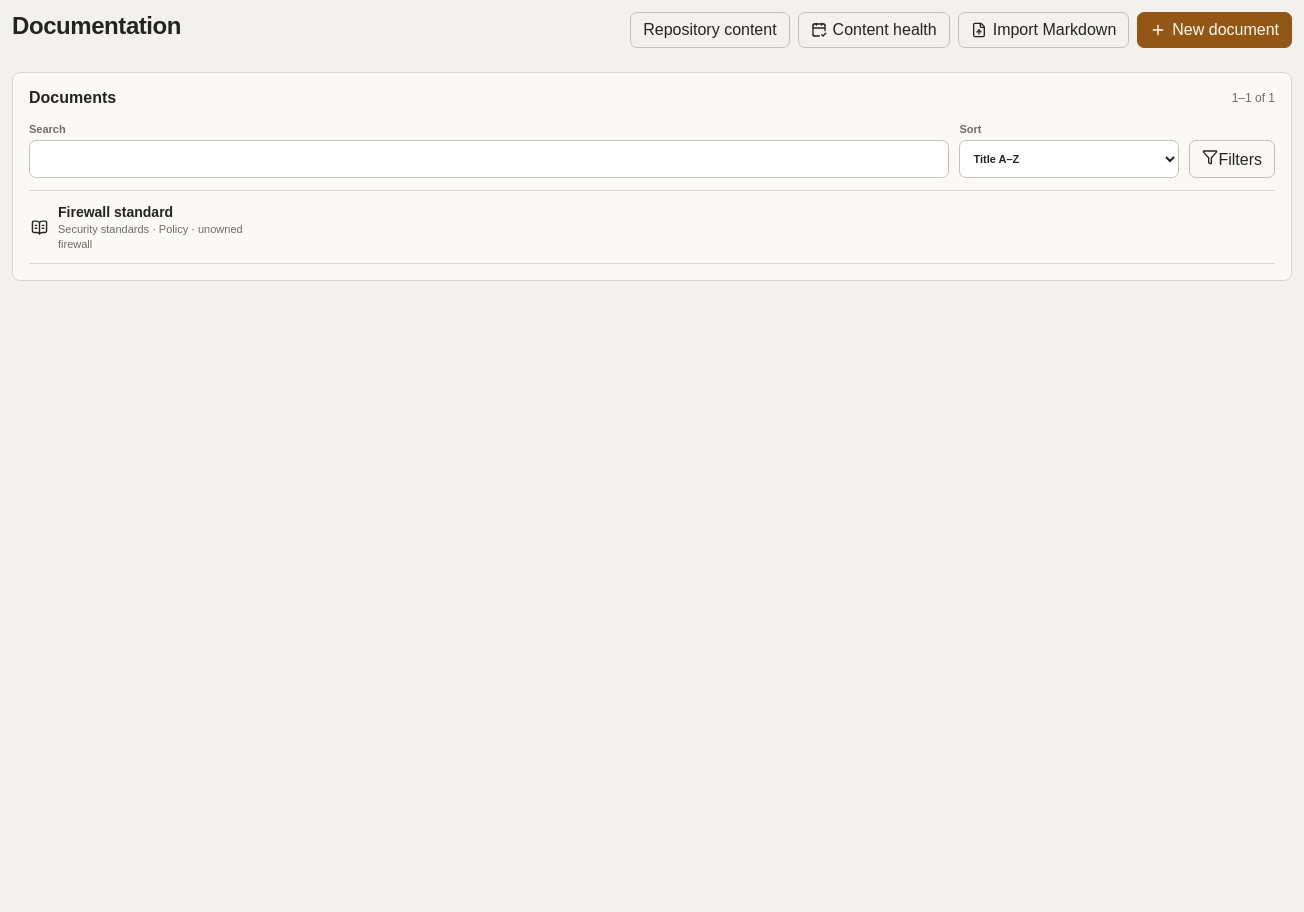
Test: fails closed when repository content cannot be read
Click the button "Firewall standard": (116, 212) x1=29 y1=191 x2=1275 y2=263
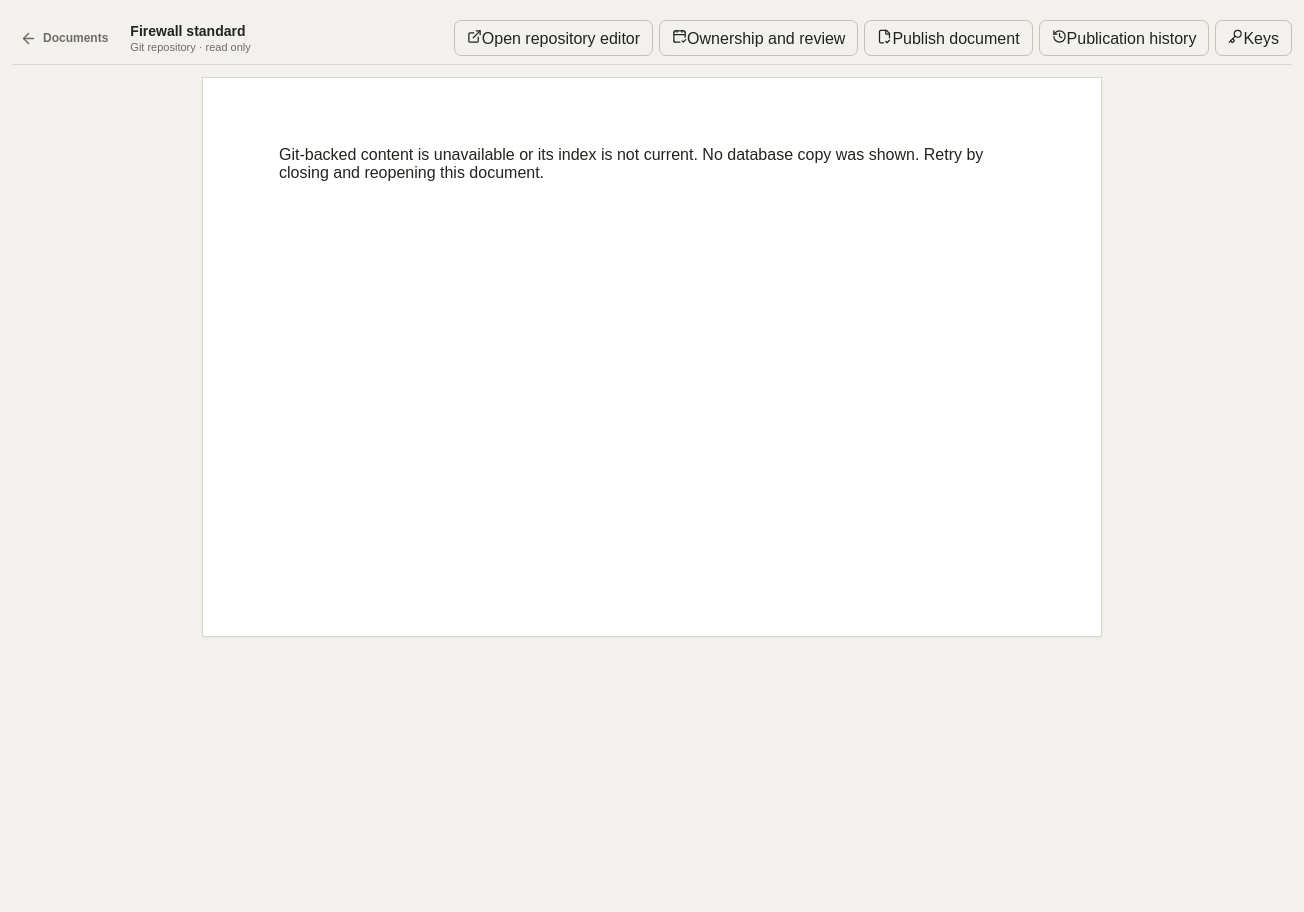
Expected: the message shows "Git-backed content is unavailable or its index is not current", x1=279 y1=146 x2=983 y2=181
